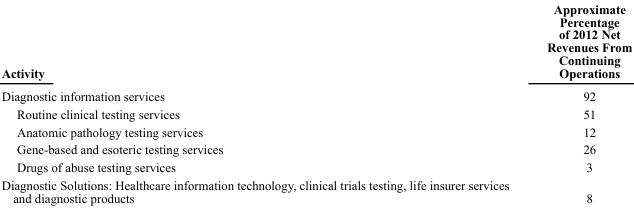table: (0, 1, 631, 204)
table column: (0, 1, 527, 204), (527, 1, 631, 204)
table row: (0, 1, 631, 83), (0, 175, 631, 204), (0, 83, 631, 104), (0, 104, 631, 122), (0, 122, 631, 140), (0, 140, 631, 158), (0, 158, 631, 175)
